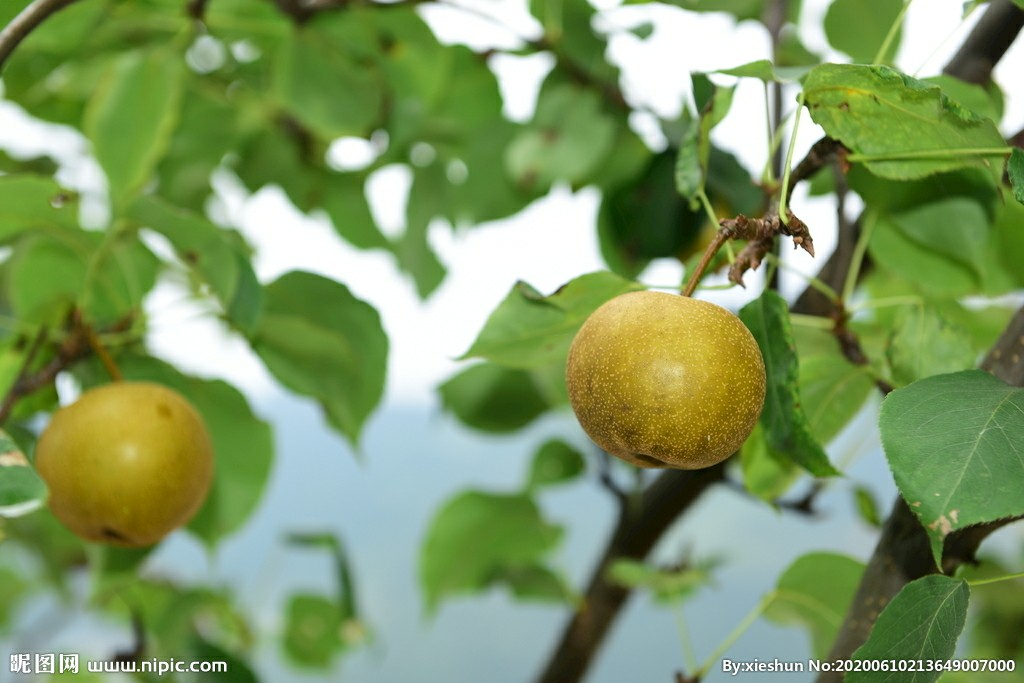pear: (565, 290, 767, 470), (36, 381, 213, 547)
